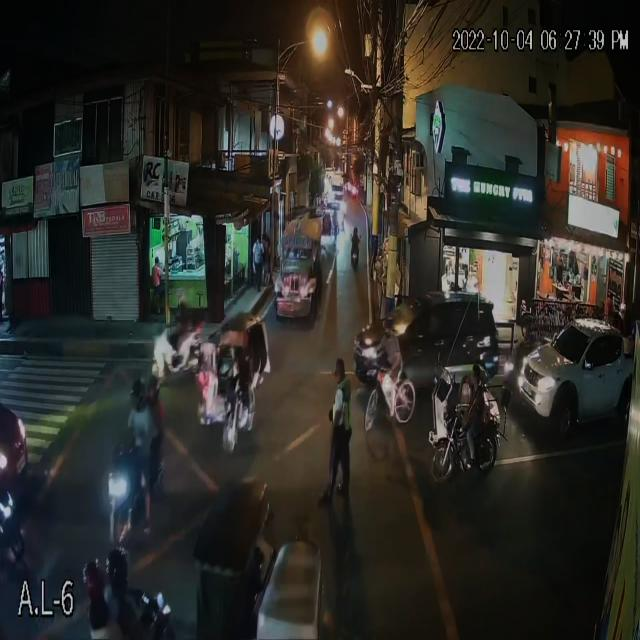Full-Faced: (80, 554, 104, 603), (104, 548, 123, 591), (128, 376, 148, 416), (142, 371, 160, 409), (353, 229, 360, 242)
